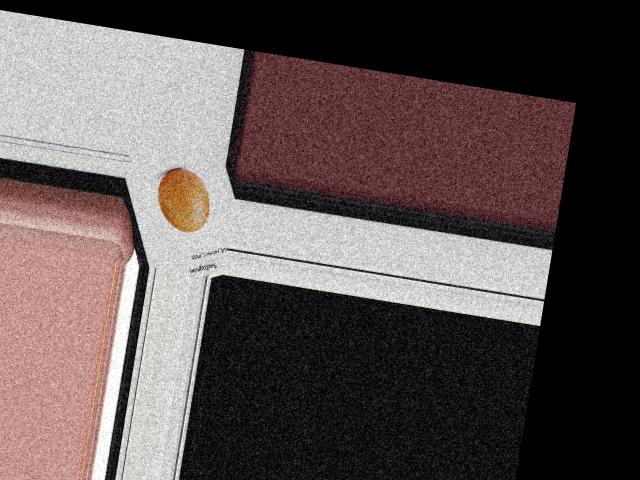egg: (152, 165, 214, 234)
